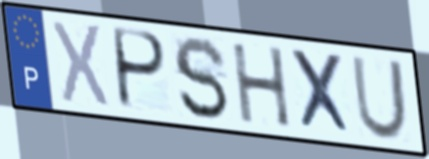H: (228, 41, 294, 130)
P: (113, 25, 170, 113)
S: (171, 34, 233, 123)
U: (349, 54, 410, 143)
X: (287, 46, 357, 138), (50, 18, 112, 112)
